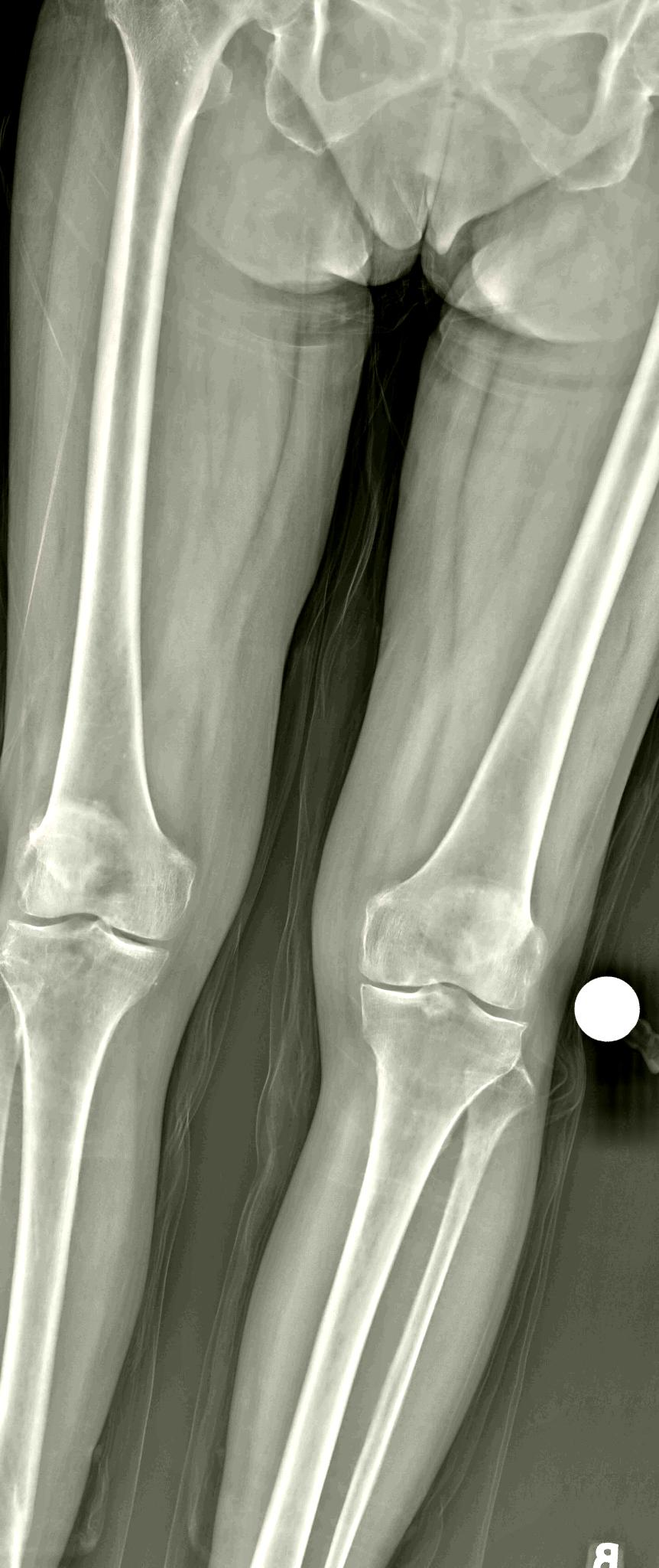Leg Fibula: (326, 1066, 531, 1568)
Leg Tibia: (251, 984, 521, 1568), (0, 920, 168, 1568)
femur: (360, 313, 659, 1009), (16, 0, 228, 940)
